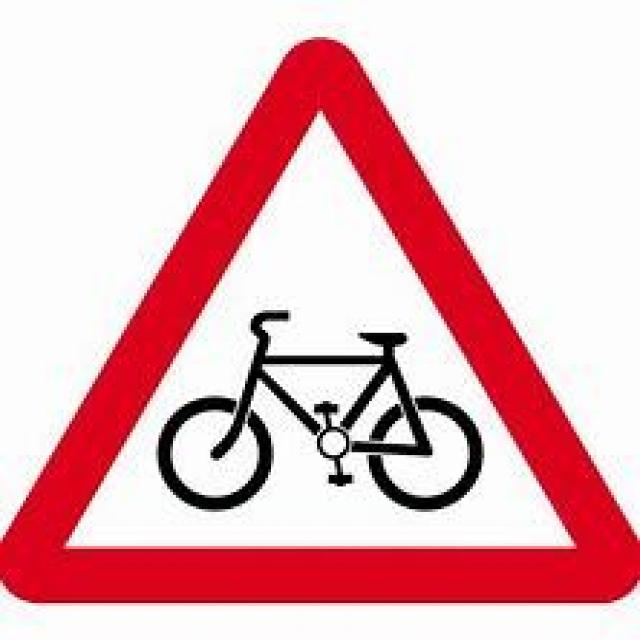CYCLE_CROSSING: (0, 34, 637, 600)
